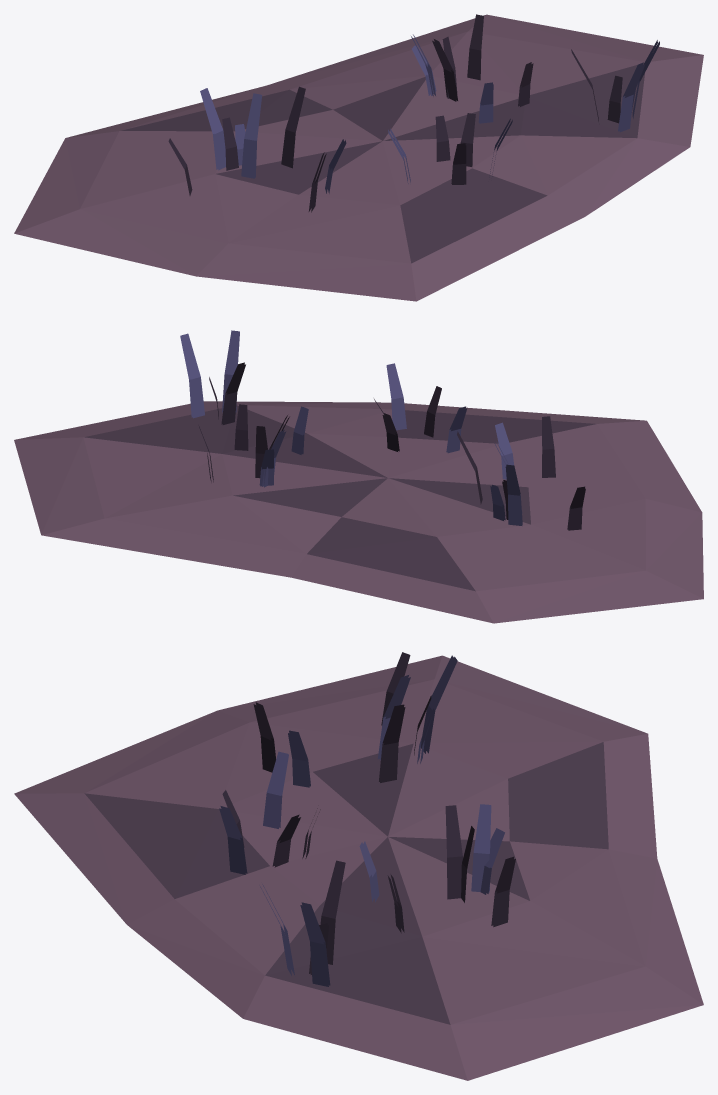
The model's file is floor_vent_ash.fbx.
3 views of the same model, one above another, from view 1: azimuth 30°, elevation 25°; view 2: azimuth 150°, elevation 25°; view 3: azimuth 270°, elevation 25° (orthographic). The views are drawn at different scales.
Parts seen in each view (by area): view 1: floor_vent_ash; view 2: floor_vent_ash; view 3: floor_vent_ash.
Boxes of the visible parts, left/top/right/bottom form: floor_vent_ash: left=14, top=14, right=703, bottom=301; floor_vent_ash: left=14, top=330, right=703, bottom=623; floor_vent_ash: left=14, top=652, right=703, bottom=1080.
Bounding box in the file's own units: 2244 × 292 × 1536.
Materials: 1 (1 with a texture image).
